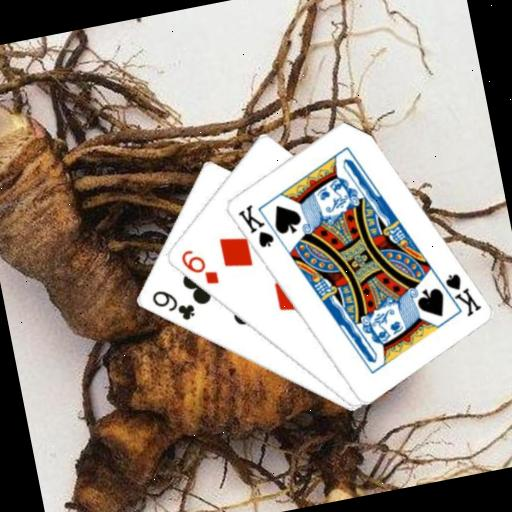6D: (176, 242, 221, 292)
9C: (147, 281, 199, 329)
KS: (433, 266, 484, 323), (233, 198, 277, 254)
